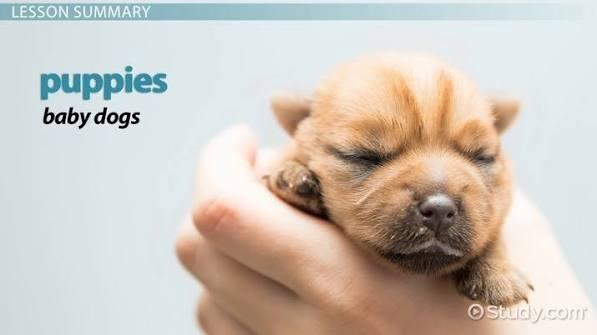puppy-dog: (265, 50, 536, 308)
